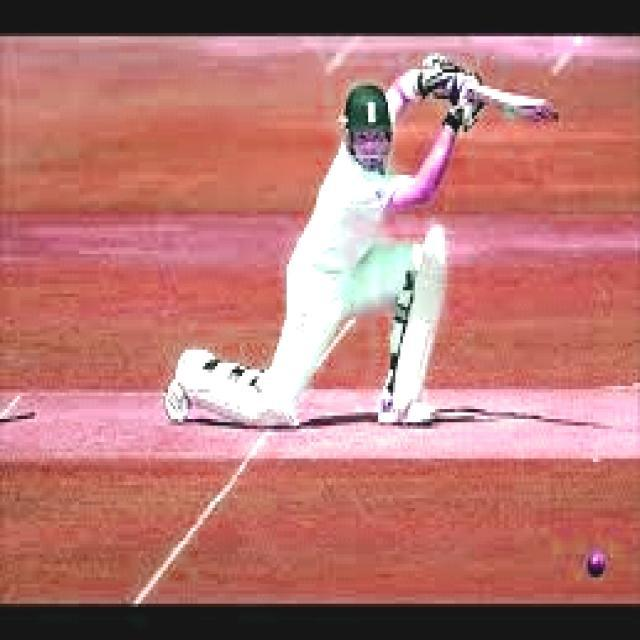bat: (456, 72, 565, 134)
toe: (528, 101, 554, 129)
